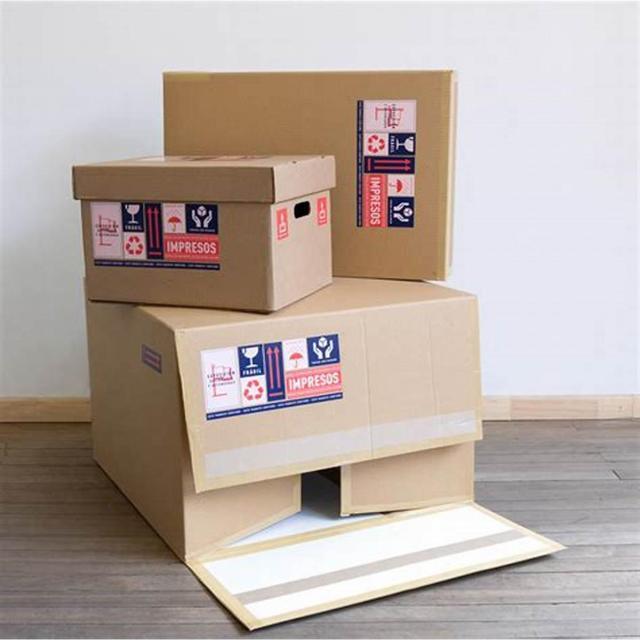cardboard: (87, 277, 569, 632), (162, 70, 460, 284), (66, 156, 338, 314)
